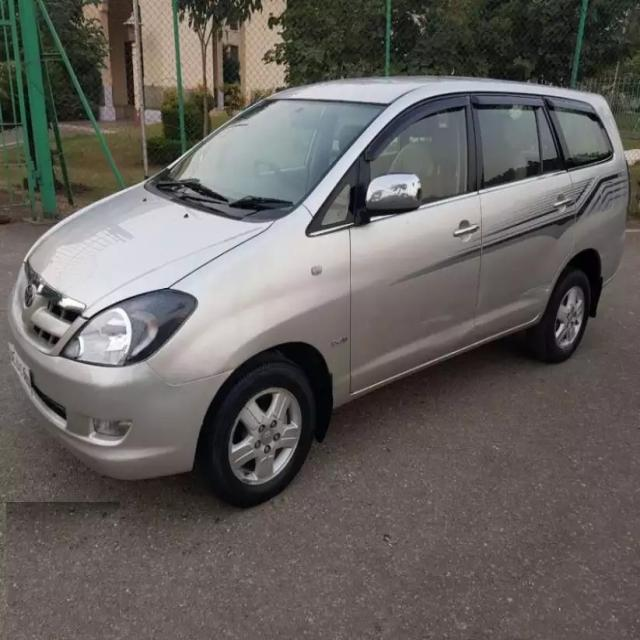light_vehicle: (5, 74, 632, 509)
